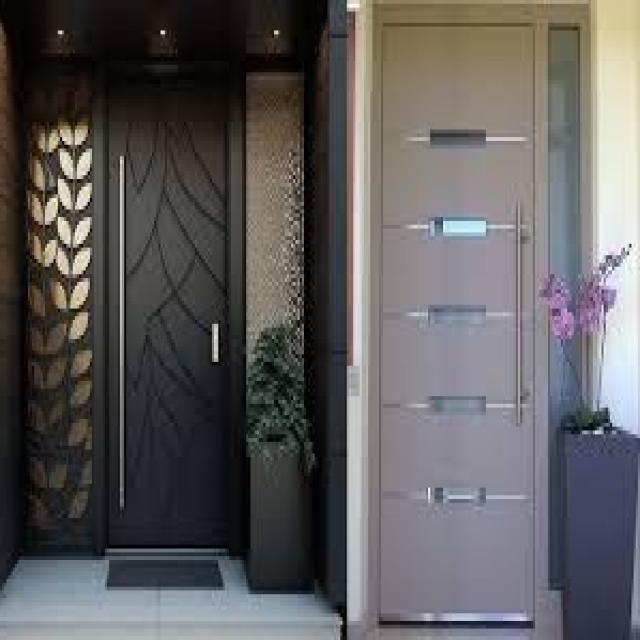door: (377, 17, 537, 627)
